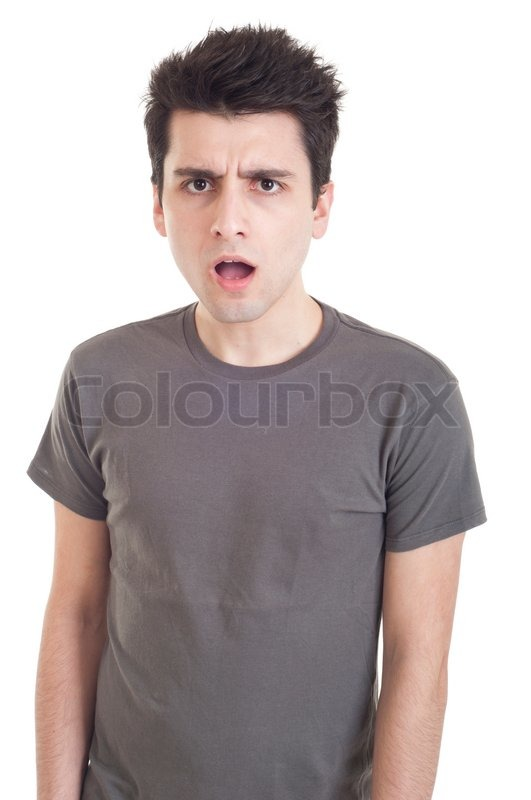confused: (149, 117, 312, 326)
